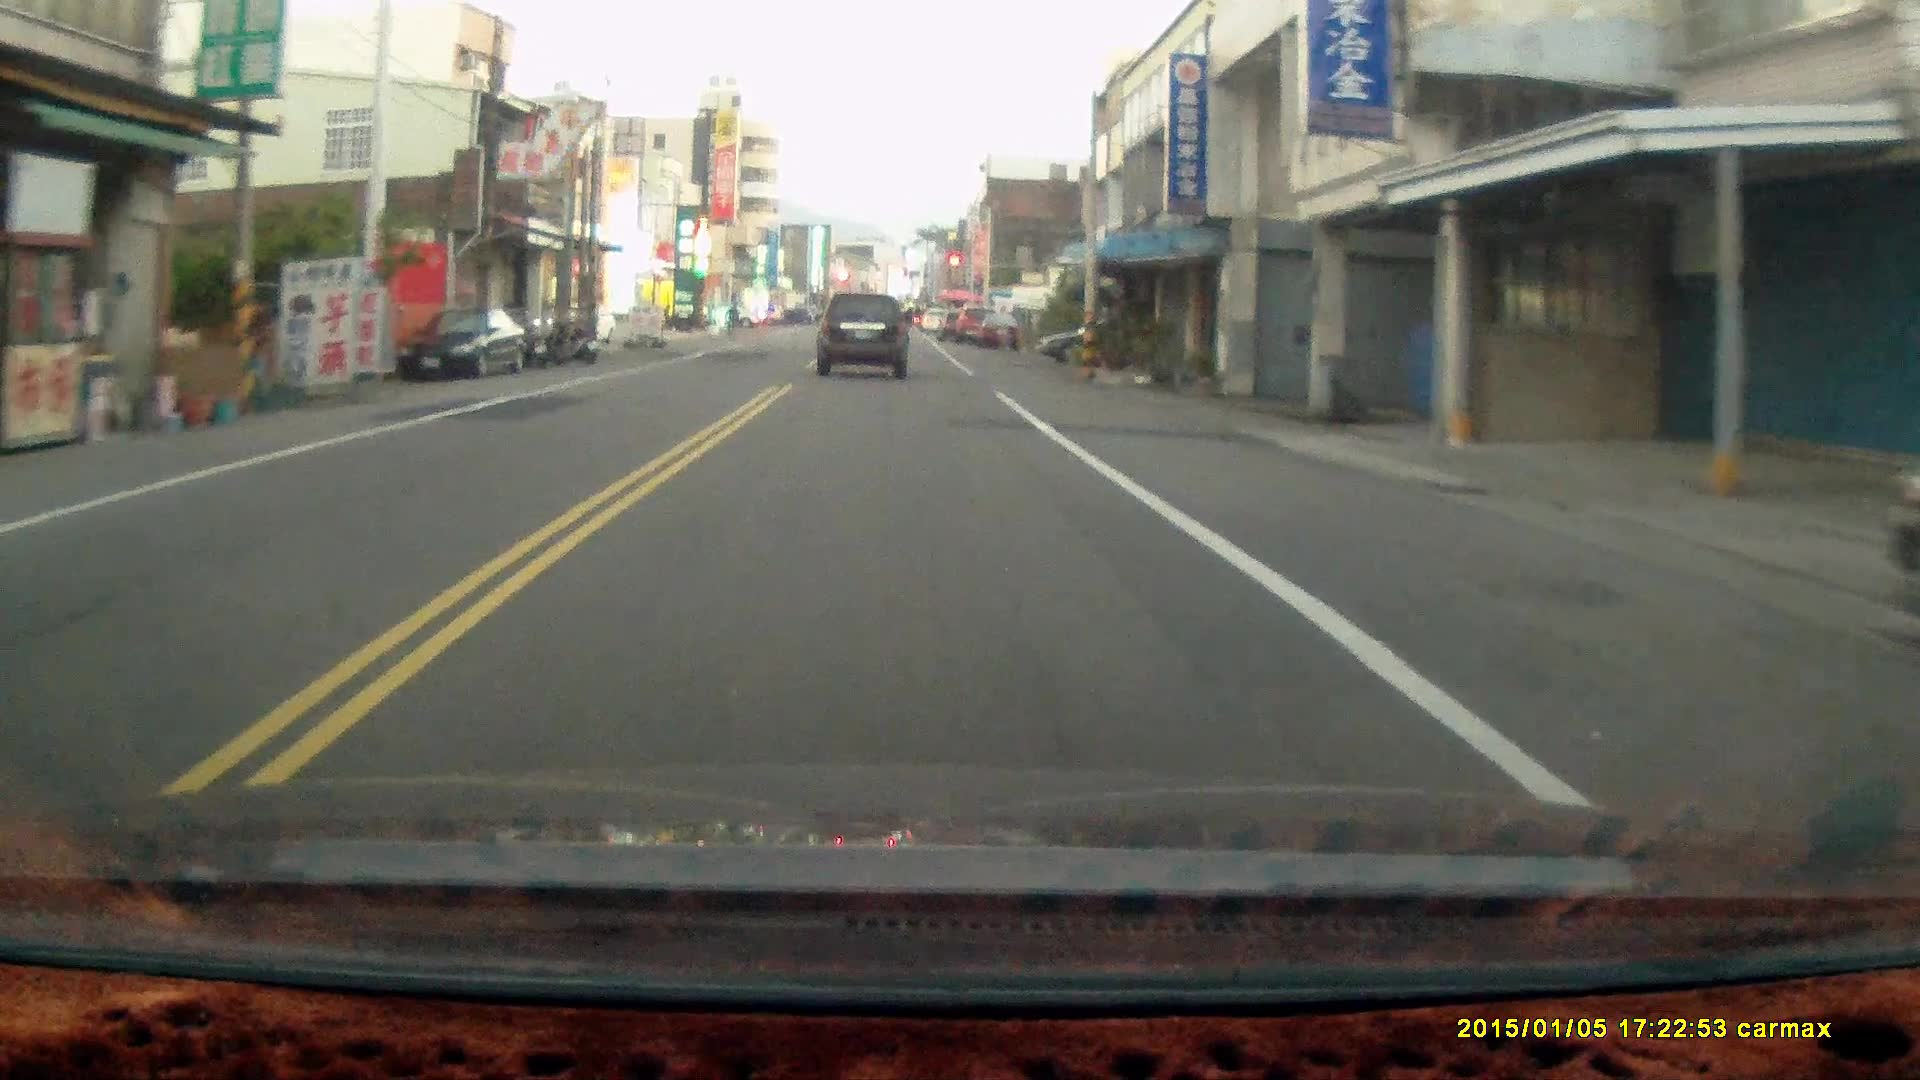vehicle: (400, 305, 531, 382), (818, 293, 911, 381)
